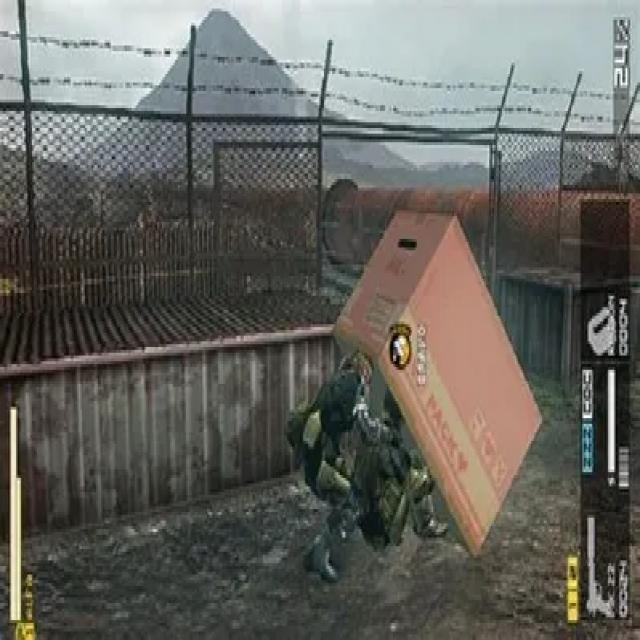snake-in-cardboard-boxes: (330, 205, 546, 559)
